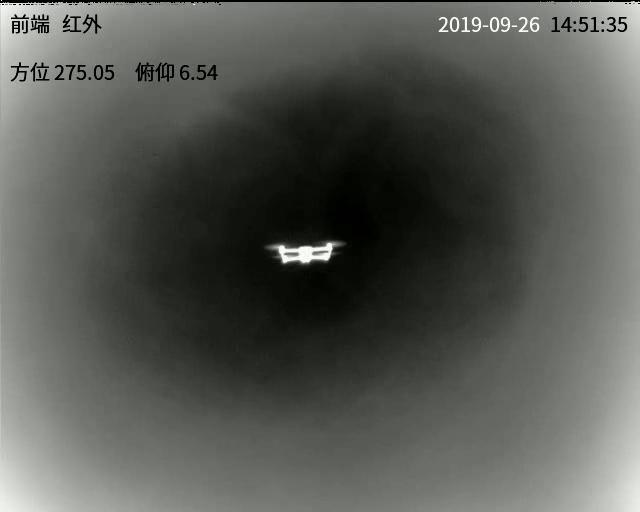DRONE: (270, 239, 341, 263)
